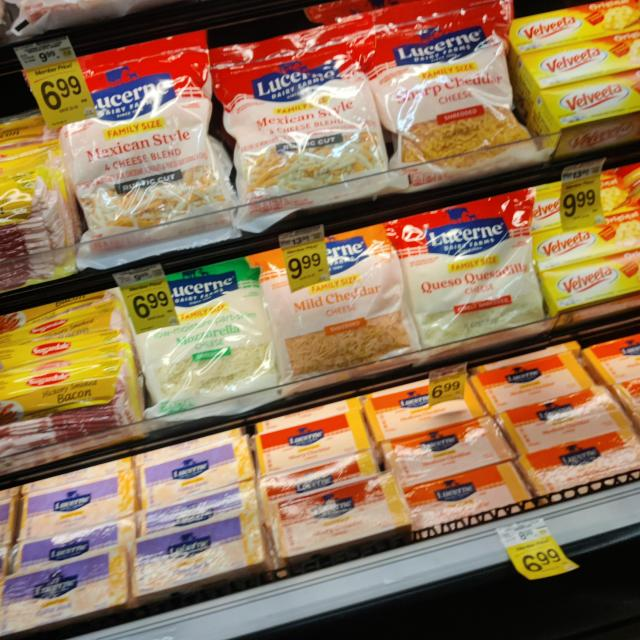Cheese: (34, 36, 254, 243), (208, 41, 410, 220), (357, 0, 542, 175), (389, 192, 553, 343), (254, 241, 423, 378), (128, 271, 284, 399), (267, 482, 417, 568), (124, 520, 283, 600), (0, 555, 140, 638), (400, 465, 540, 533), (14, 463, 143, 527), (465, 354, 594, 410), (246, 409, 370, 465), (127, 440, 256, 490)
